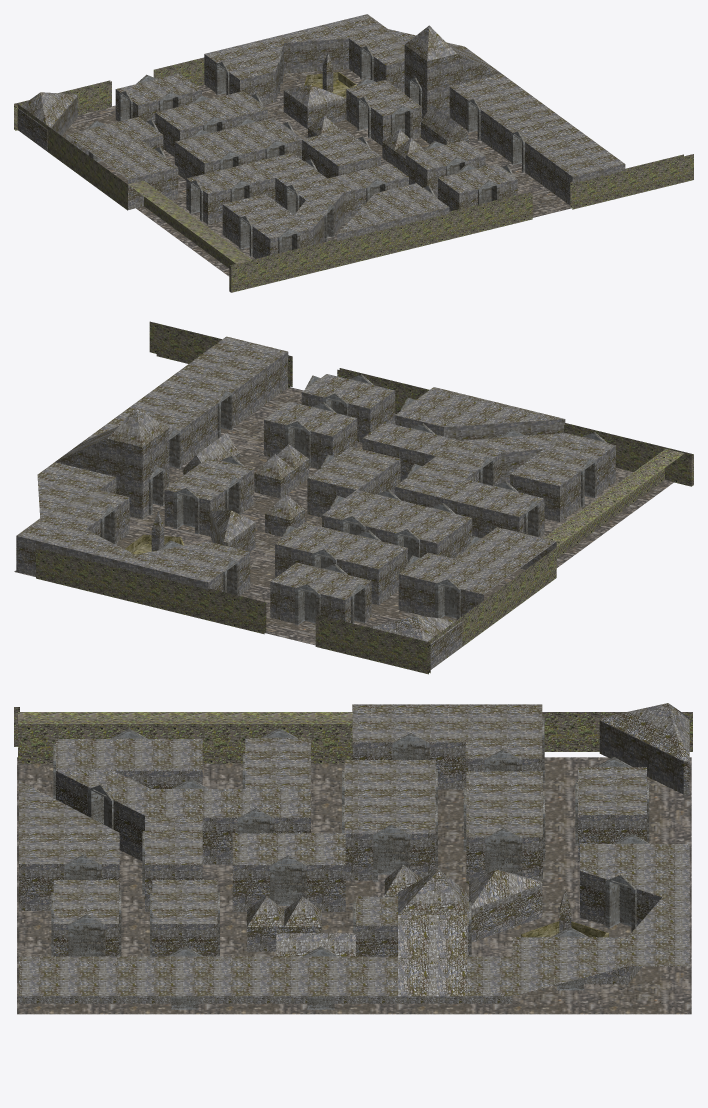
The model's file is mausoleum maze 03.FBX.
The picture shows the model from 3 angles, top to bottom: view 1: azimuth 30°, elevation 25°; view 2: azimuth 150°, elevation 25°; view 3: azimuth 270°, elevation 25°; orthographic projection. The views are drawn at different scales.
Visible parts, largest first — view 1: Box022, Plane067, mausoleum maze ground, Box030, Plane064, Box015, Box028, Box019, Box023, Box017, Box014, Box018 (+12 smaller); view 2: Box022, Plane066, mausoleum maze ground, Box030, Plane064, Box028, Box015, Box023, Box019, Box017, Box021, Plane067 (+12 smaller); view 3: Box022, mausoleum maze ground, Plane064, Box030, Box019, Box015, Box021, Box017, Box016, Box028, Box023, Line012 (+11 smaller).
Boxes of the visible parts, left/top/right/bottom form: Box022: left=204, top=14, right=625, bottom=205; Plane067: left=229, top=154, right=693, bottom=292; mausoleum maze ground: left=62, top=69, right=572, bottom=276; Box030: left=66, top=117, right=178, bottom=209; Plane064: left=17, top=103, right=252, bottom=268; Box015: left=175, top=117, right=302, bottom=179; Box028: left=404, top=25, right=501, bottom=118; Box019: left=254, top=152, right=346, bottom=244; Box023: left=222, top=194, right=312, bottom=258; Box017: left=155, top=91, right=267, bottom=157; Box014: left=346, top=78, right=421, bottom=145; Box018: left=186, top=162, right=275, bottom=224; Box022: left=16, top=336, right=288, bottom=595; Plane066: left=36, top=548, right=430, bottom=674; mausoleum maze ground: left=14, top=387, right=674, bottom=645; Box030: left=398, top=527, right=556, bottom=619; Plane064: left=426, top=449, right=684, bottom=653; Box028: left=55, top=408, right=169, bottom=519; Box015: left=322, top=489, right=472, bottom=562; Box023: left=510, top=432, right=615, bottom=522; Box019: left=394, top=429, right=565, bottom=507; Box017: left=275, top=522, right=407, bottom=604; Box021: left=395, top=387, right=565, bottom=440; Plane067: left=149, top=321, right=693, bottom=486; Box022: left=19, top=833, right=689, bottom=1009; mausoleum maze ground: left=17, top=757, right=691, bottom=1014; Plane064: left=18, top=712, right=692, bottom=763; Box030: left=352, top=704, right=544, bottom=789; Box019: left=56, top=770, right=310, bottom=864; Box015: left=342, top=760, right=437, bottom=881; Box021: left=19, top=780, right=119, bottom=910; Box017: left=463, top=771, right=545, bottom=884; Box016: left=232, top=833, right=345, bottom=911; Box028: left=398, top=869, right=467, bottom=996; Box023: left=53, top=728, right=202, bottom=799; Line012: left=599, top=703, right=689, bottom=794.
Bounding box in the file's own units: 4702 × 819 × 3895.
